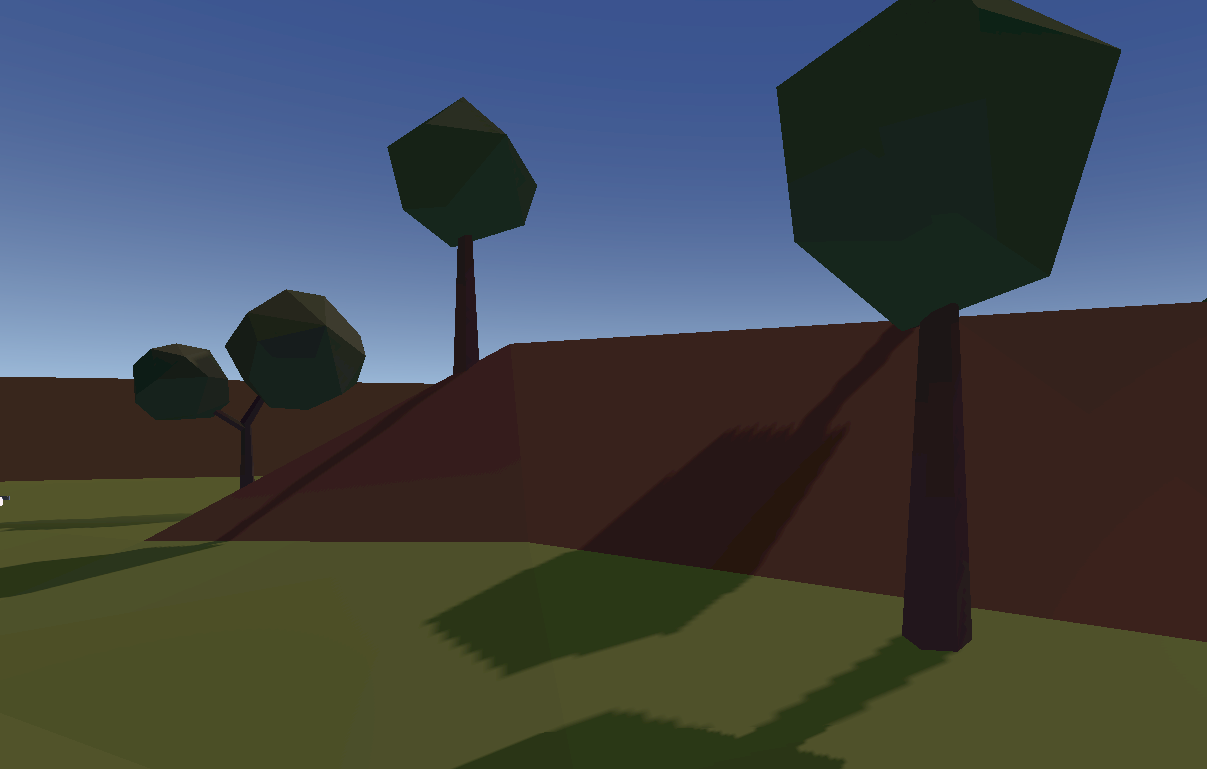tree: (769, 2, 1125, 661), (373, 93, 561, 370), (129, 286, 366, 498)
